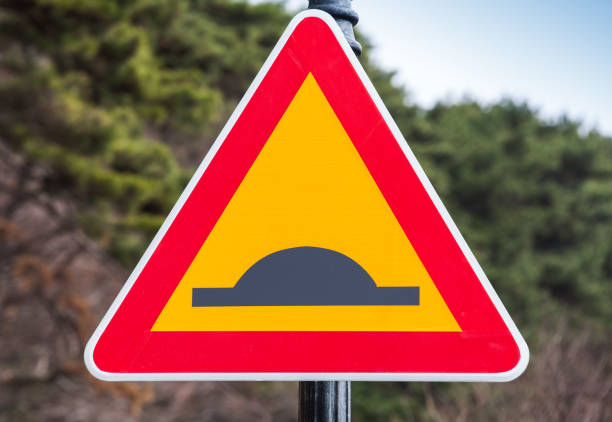speed-breaker: (148, 71, 470, 369)
